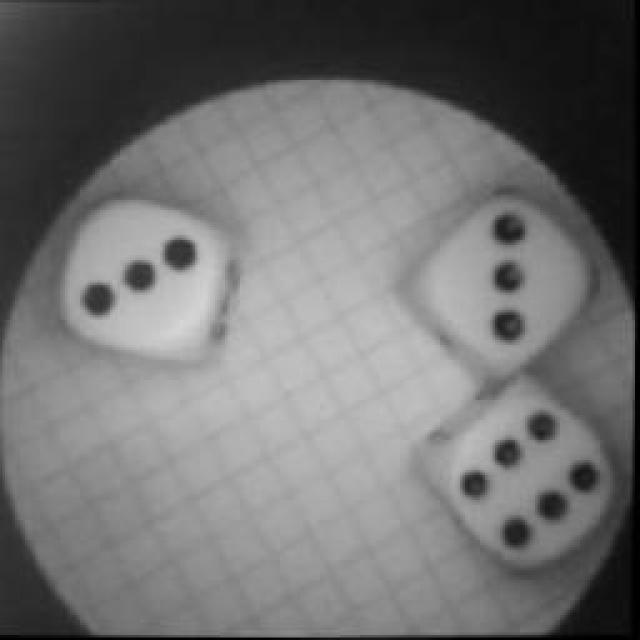dice_3: (410, 181, 602, 374), (47, 182, 245, 366)
dice_6: (430, 374, 632, 581)
